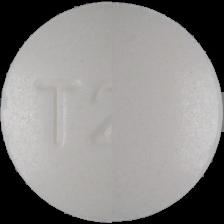51672-4124: (0, 0, 224, 224)
